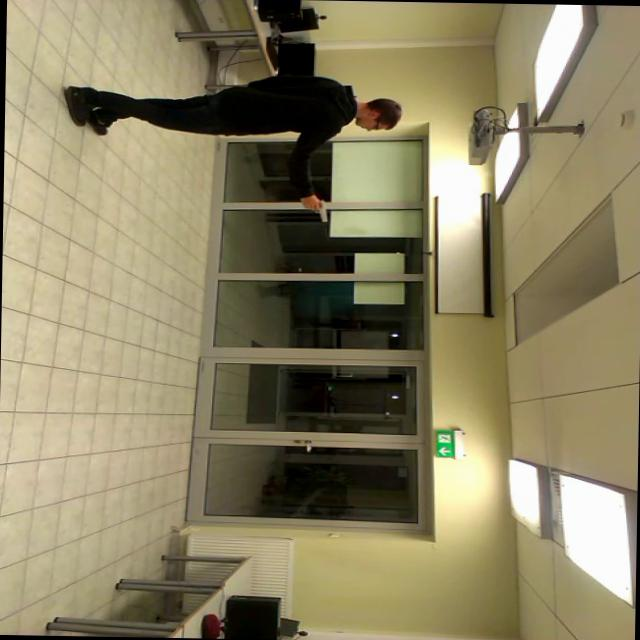handgun: (294, 198, 340, 228)
